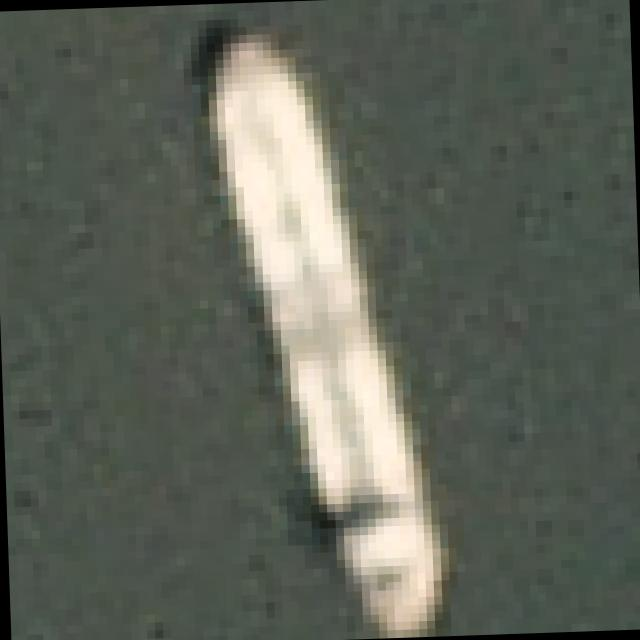ship: (165, 10, 507, 640)
